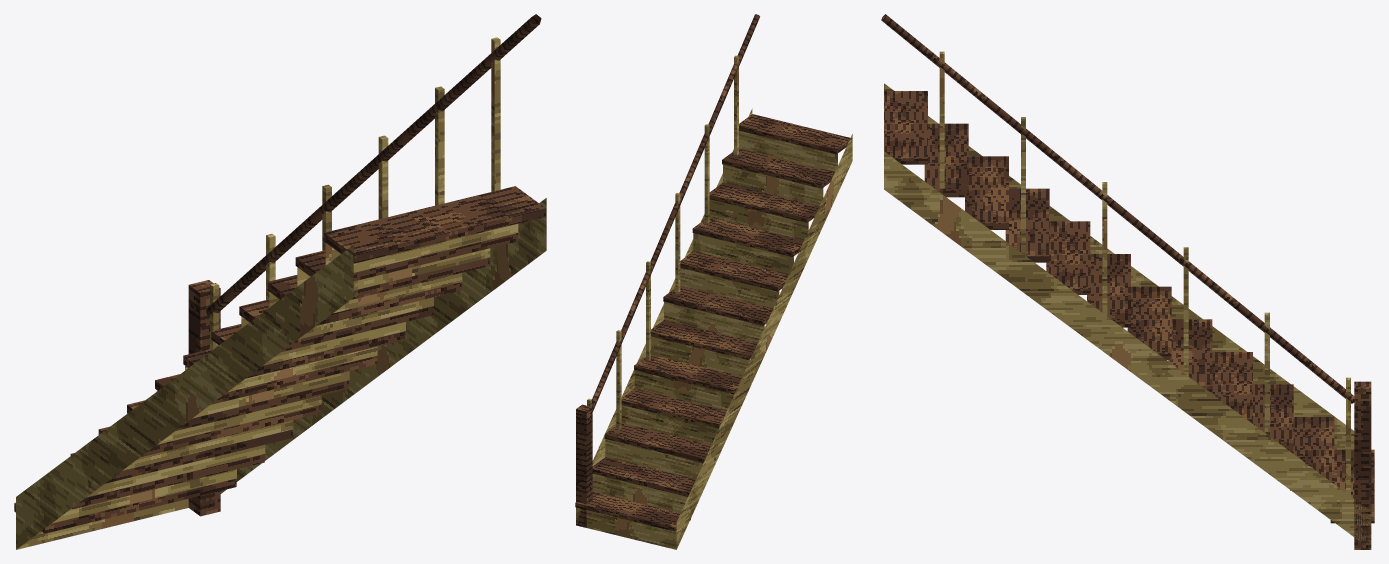
The model's file is RES_Int_Stair_Attic_Steep.obj.
3 renders of one model, left to right at view 1: azimuth 30°, elevation 25°; view 2: azimuth 150°, elevation 25°; view 3: azimuth 270°, elevation 25°, orthographic. The views are drawn at different scales.
Visible parts, largest first — view 1: RES_Int_Stair_Attic_Steep_Mesh_M_Furn_WoodPainted, RES_Int_Stair_Attic_Steep_Mesh_M_Furn_WoodDark; view 2: RES_Int_Stair_Attic_Steep_Mesh_M_Furn_WoodPainted, RES_Int_Stair_Attic_Steep_Mesh_M_Furn_WoodDark; view 3: RES_Int_Stair_Attic_Steep_Mesh_M_Furn_WoodDark, RES_Int_Stair_Attic_Steep_Mesh_M_Furn_WoodPainted.
Boxes of the visible parts, x1=… form: RES_Int_Stair_Attic_Steep_Mesh_M_Furn_WoodPainted: x1=16, y1=37, x2=546, y2=549; RES_Int_Stair_Attic_Steep_Mesh_M_Furn_WoodDark: x1=14, y1=14, x2=545, y2=533; RES_Int_Stair_Attic_Steep_Mesh_M_Furn_WoodPainted: x1=576, y1=55, x2=852, y2=549; RES_Int_Stair_Attic_Steep_Mesh_M_Furn_WoodDark: x1=575, y1=14, x2=850, y2=531; RES_Int_Stair_Attic_Steep_Mesh_M_Furn_WoodDark: x1=881, y1=14, x2=1374, y2=549; RES_Int_Stair_Attic_Steep_Mesh_M_Furn_WoodPainted: x1=884, y1=51, x2=1371, y2=548.
Size of the model in its own units: 0.95 by 3.47 by 2.92.
2 materials, 2 textured.
